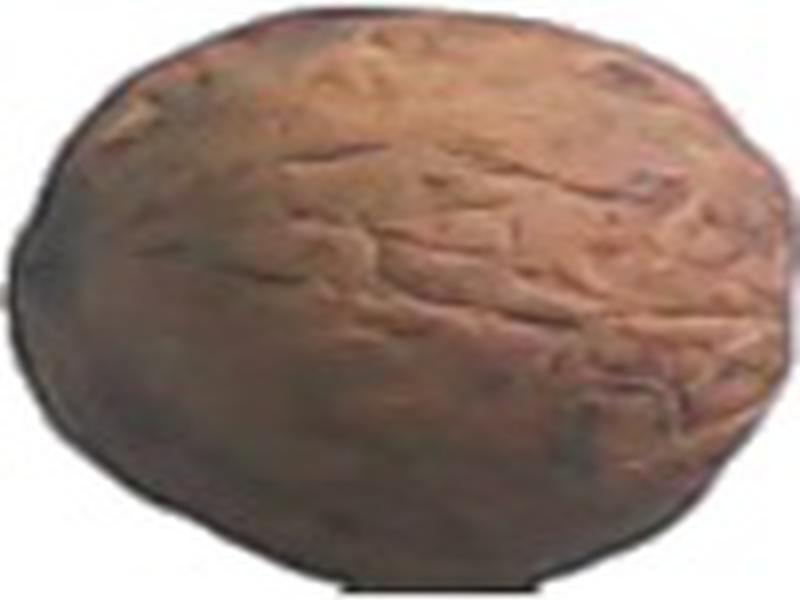walnut: (1, 1, 800, 591)
